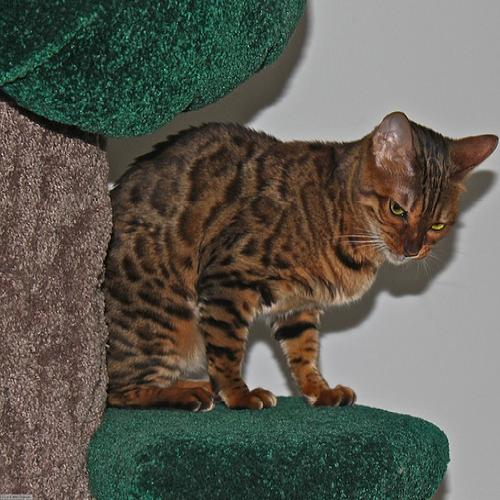cat-face: (345, 108, 499, 266)
